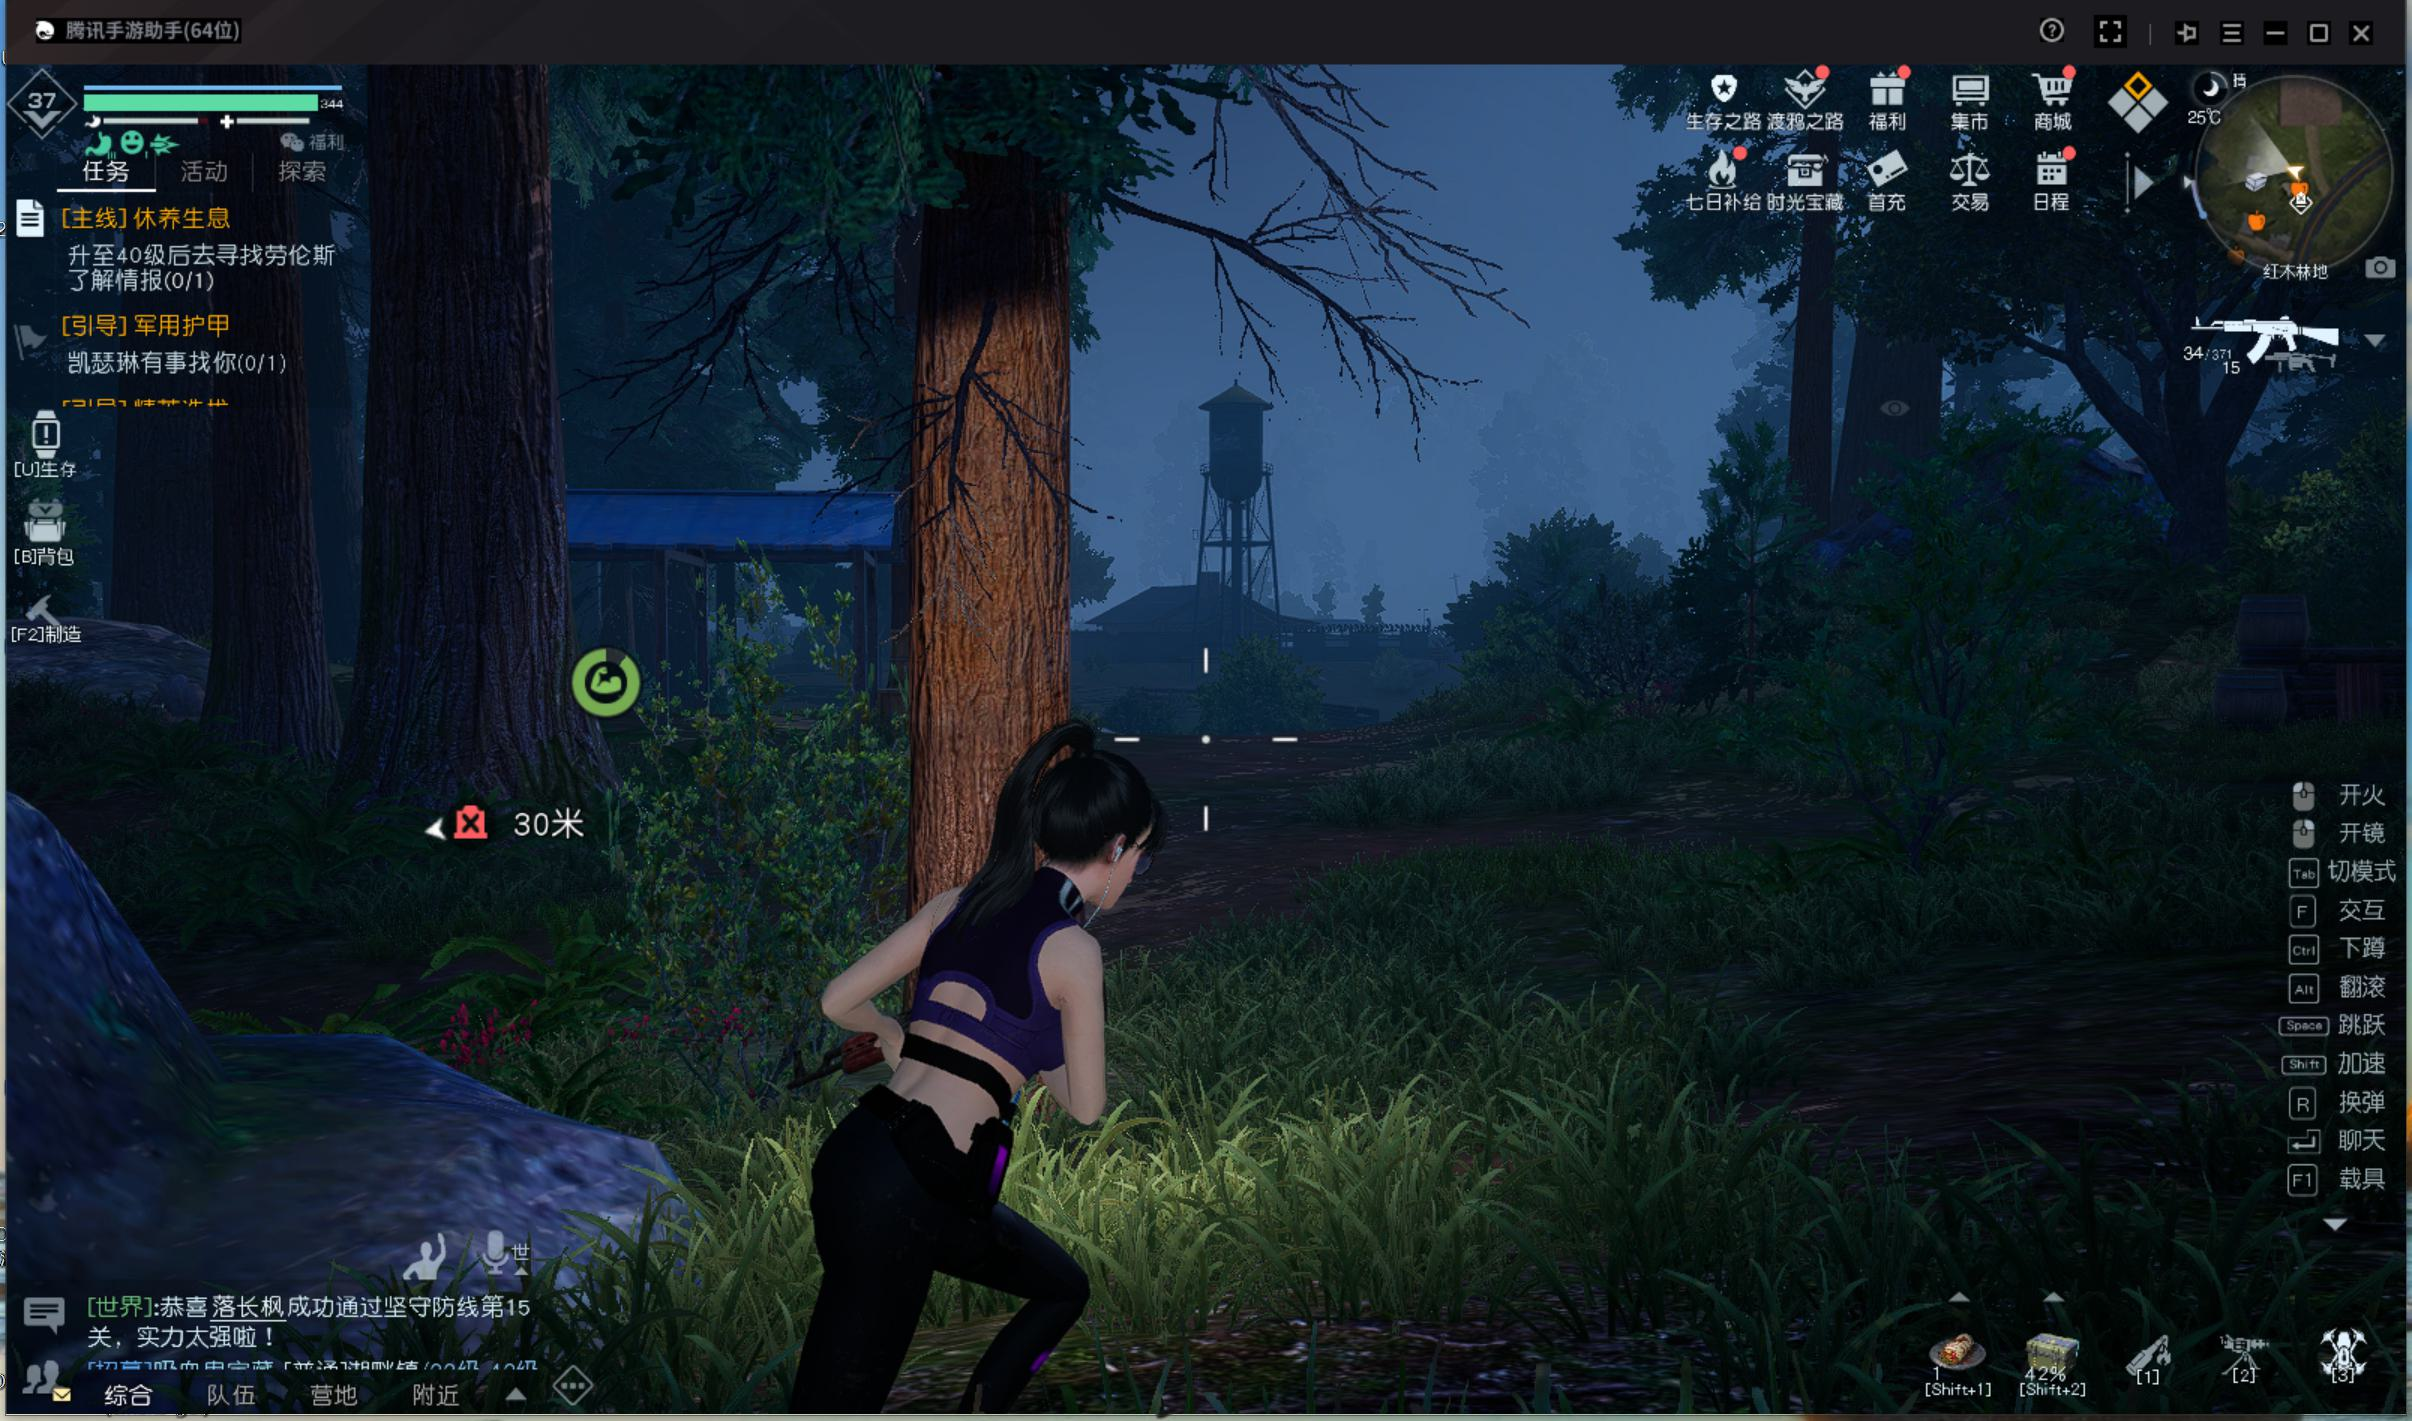tree: (354, 166, 628, 854), (888, 255, 1081, 751), (203, 205, 330, 753), (1771, 230, 1839, 611)
